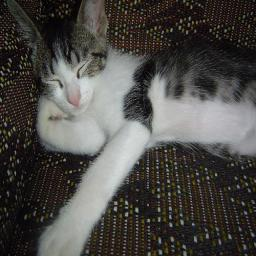catnose: (69, 95, 81, 108)
